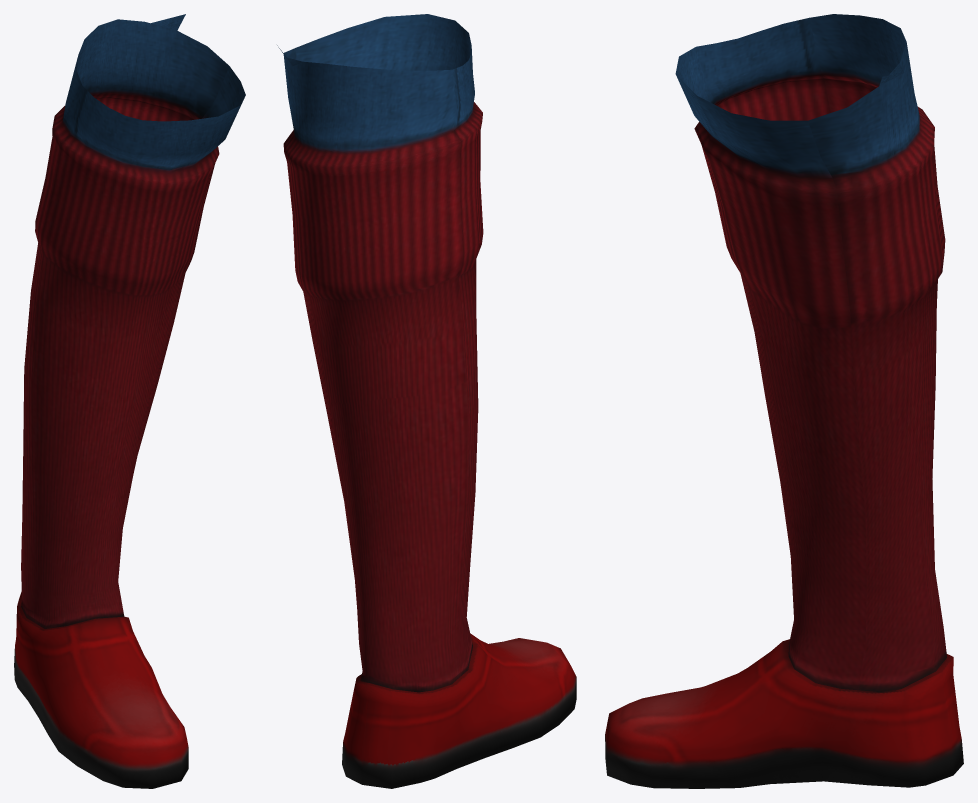
File: piernader.obj
The picture shows the model from 3 angles, left to right: view 1: azimuth 30°, elevation 25°; view 2: azimuth 150°, elevation 25°; view 3: azimuth 270°, elevation 25°; orthographic projection. The views are drawn at different scales.
Parts seen in each view (by area): view 1: polySurface32 polySurface30 polySurface22 polySurface7 homecomin; view 2: polySurface32 polySurface30 polySurface22 polySurface7 homecomin; view 3: polySurface32 polySurface30 polySurface22 polySurface7 homecomin.
Part boxes in pixels (left/top/right/bottom): polySurface32 polySurface30 polySurface22 polySurface7 homecomin: left=14, top=14, right=245, bottom=788; polySurface32 polySurface30 polySurface22 polySurface7 homecomin: left=277, top=14, right=576, bottom=788; polySurface32 polySurface30 polySurface22 polySurface7 homecomin: left=605, top=14, right=963, bottom=788.
Size of the model in its own units: 0.0764 by 0.2392 by 0.1009.
Materials: 2 (1 with a texture image).
